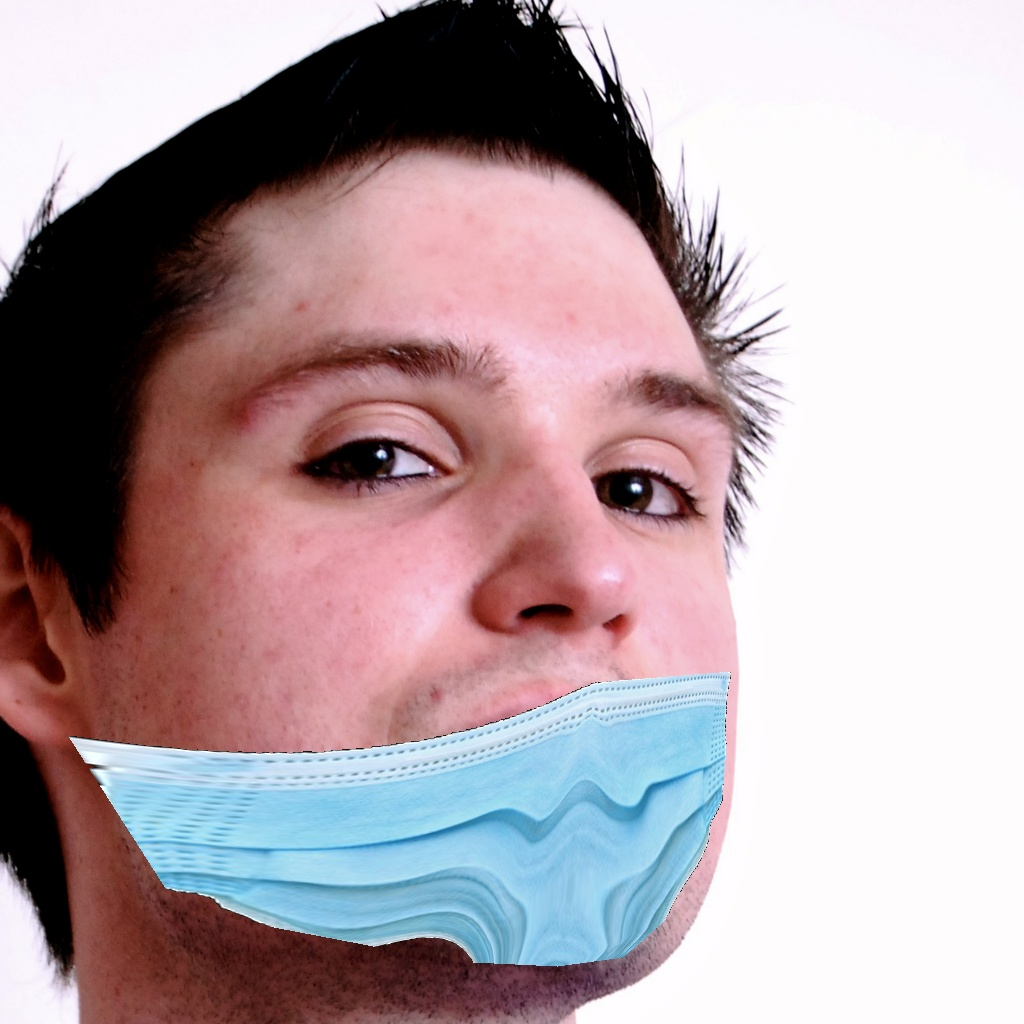mask_weared_incorrect: (57, 331, 785, 984)
